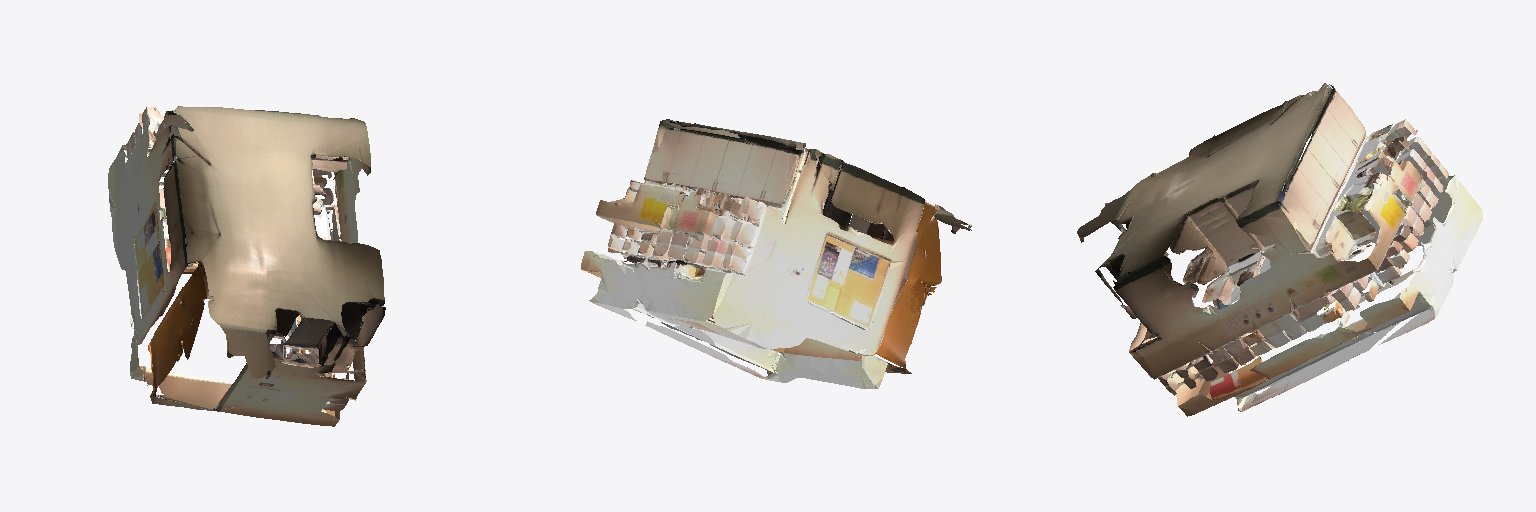
The picture shows the model from 3 angles: view 1: azimuth 30°, elevation 25°; view 2: azimuth 150°, elevation 25°; view 3: azimuth 270°, elevation 25°; orthographic projection.
Bounding box in the file's own units: 3.51 × 3.92 × 4.99.
1 materials, 1 textured.